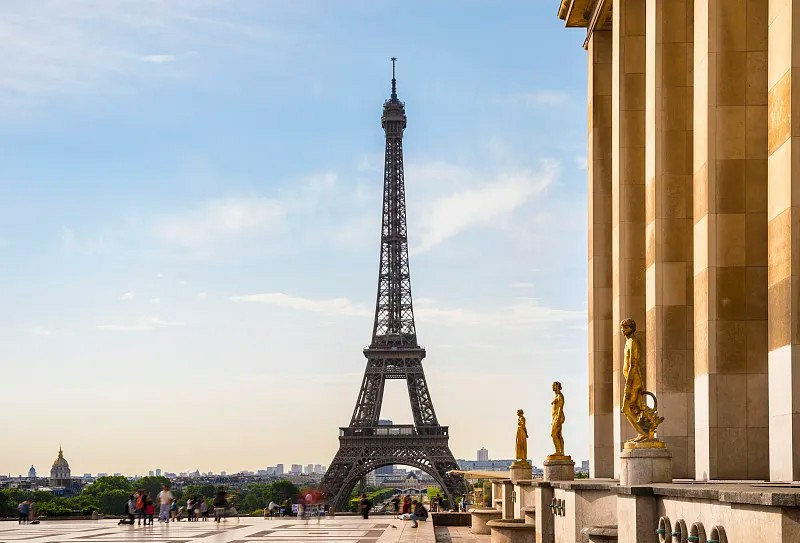Eiffel: (312, 59, 472, 511)
